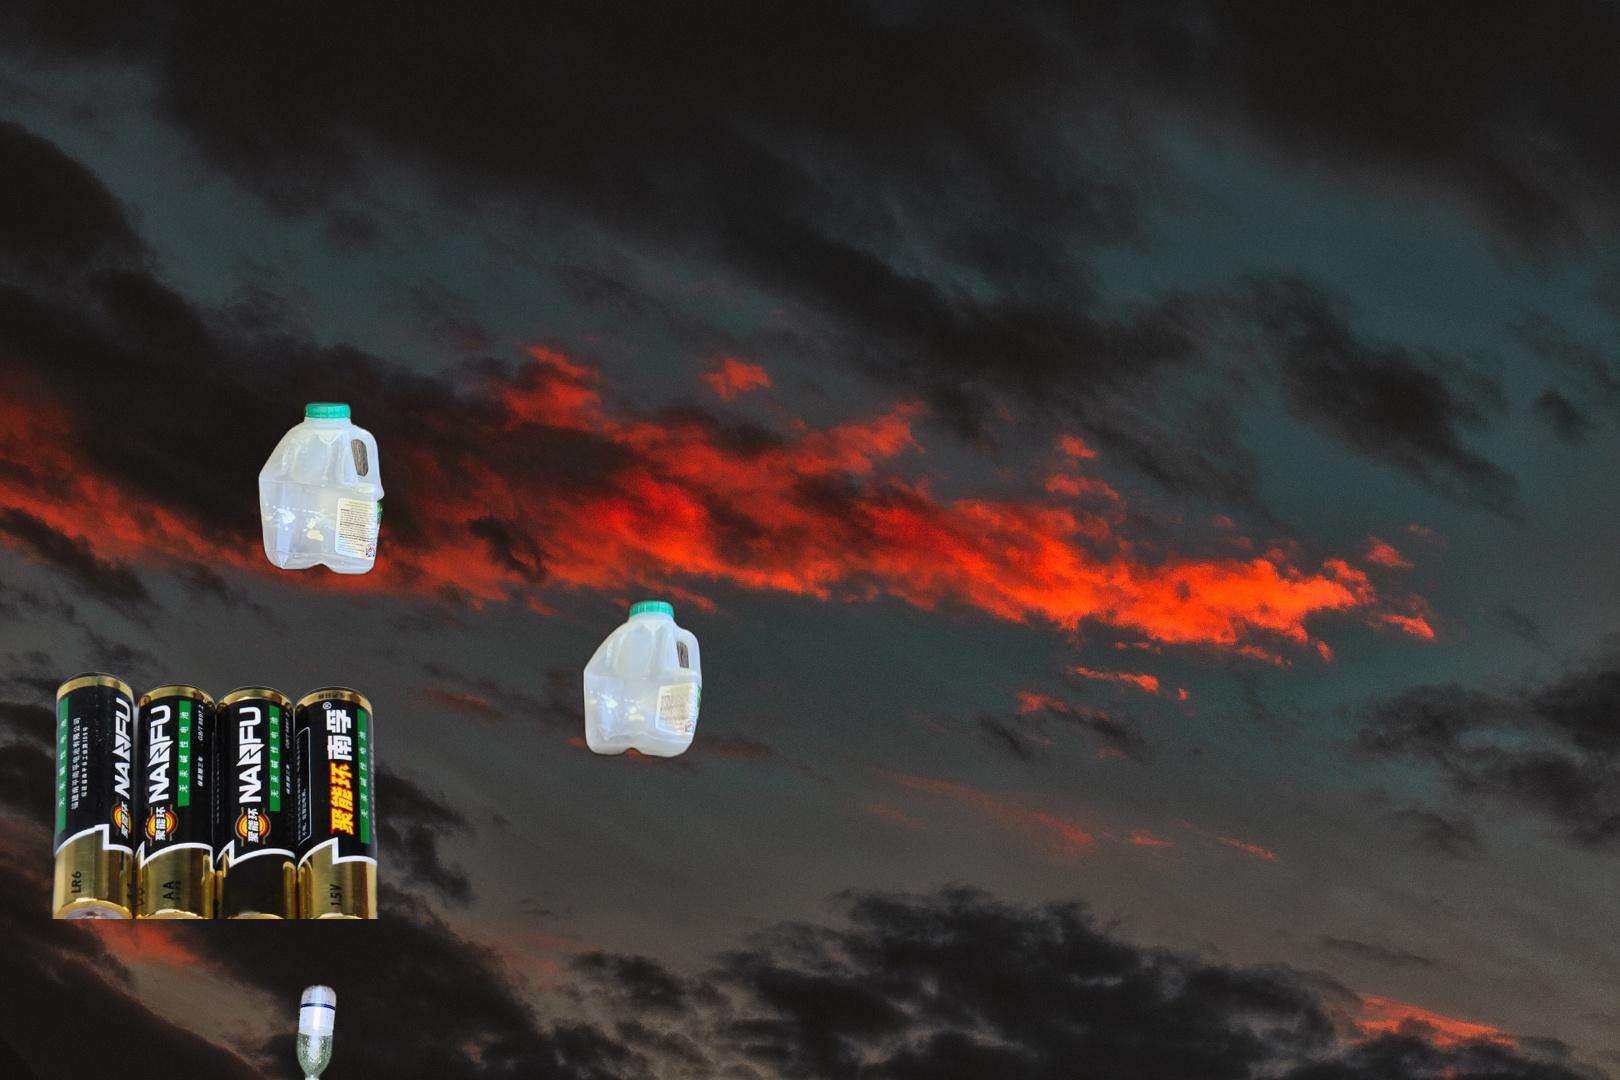battery: (17, 668, 385, 918)
plastic-bottles: (253, 397, 391, 581), (579, 593, 708, 765), (290, 978, 342, 1080)
